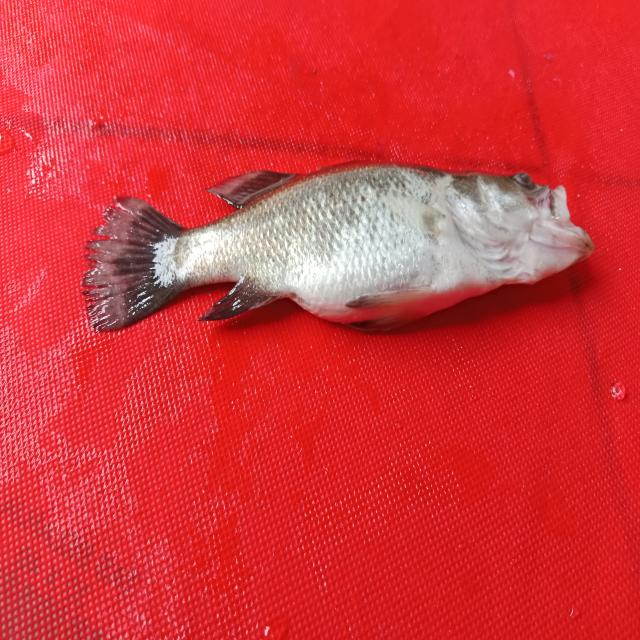ikan: (76, 139, 604, 349)
